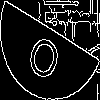O: (25, 25, 66, 84)
